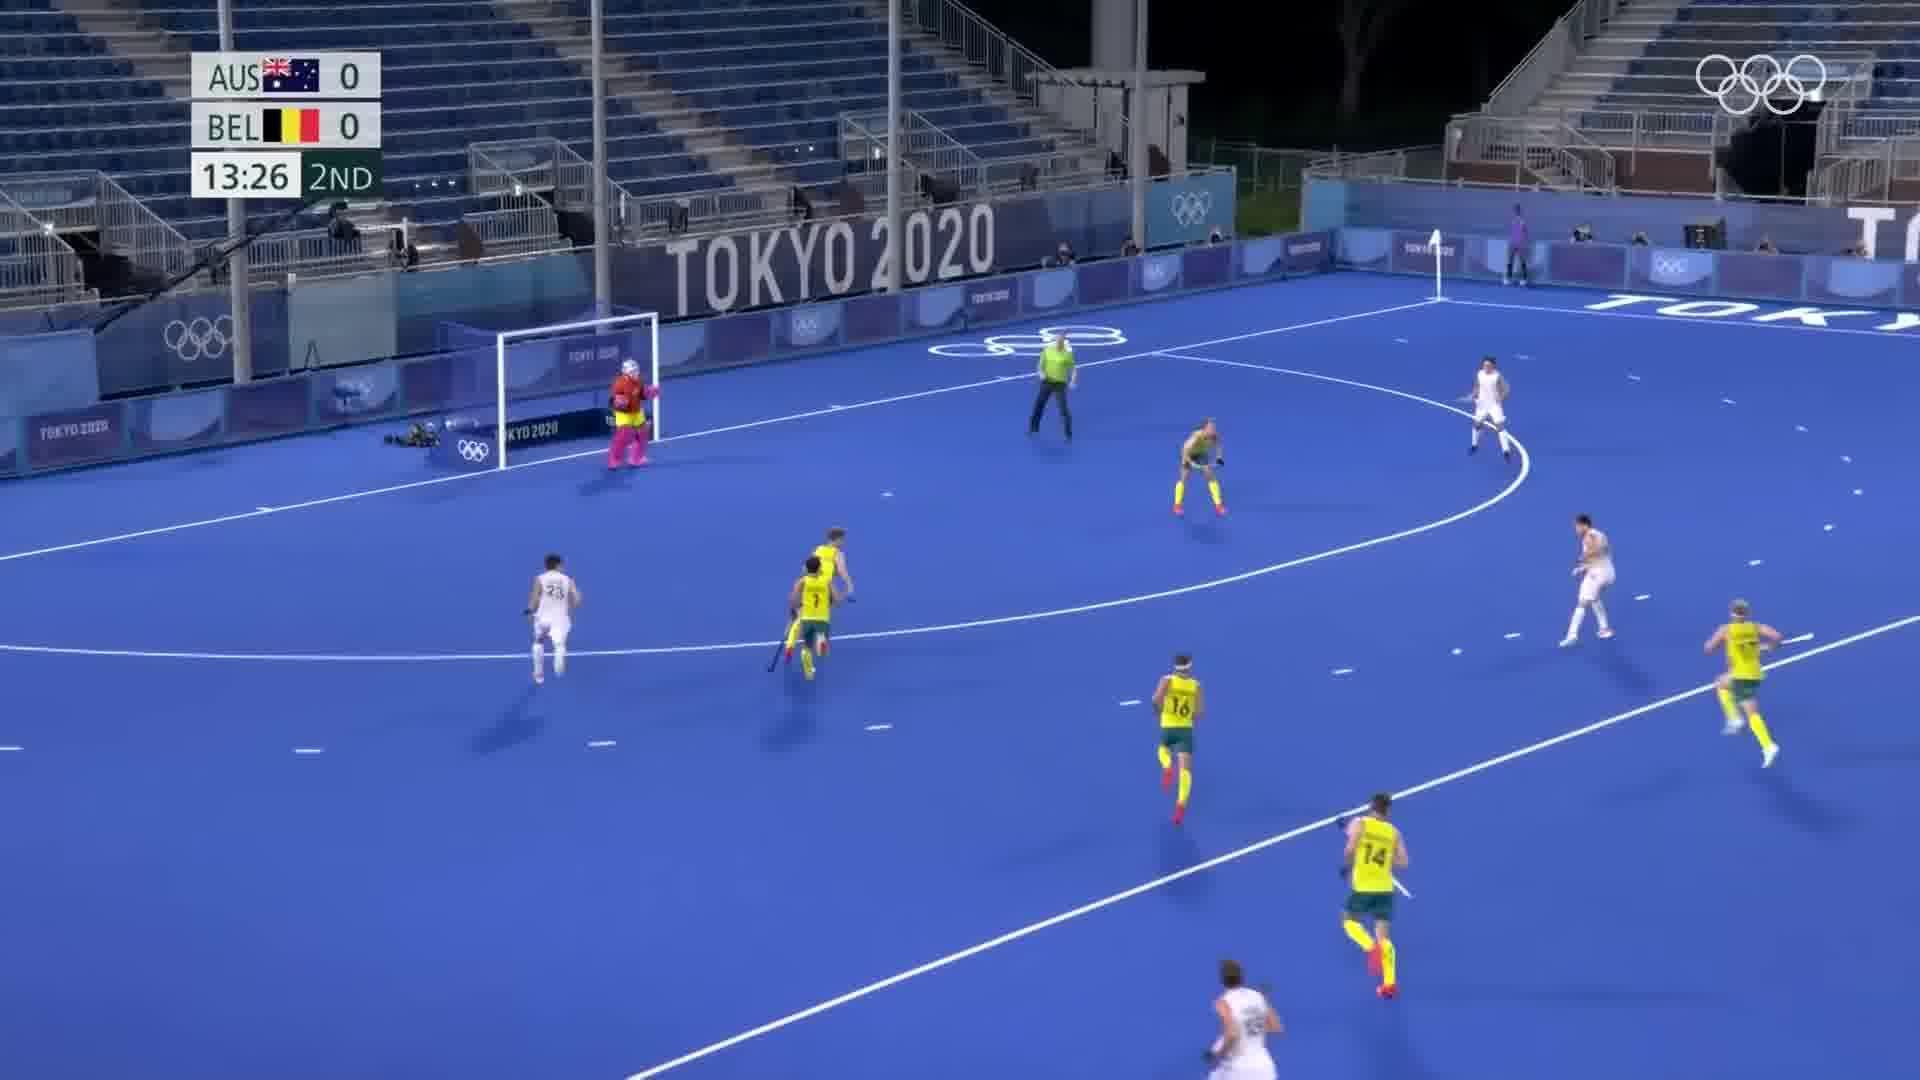ball: (1440, 643, 1470, 663)
